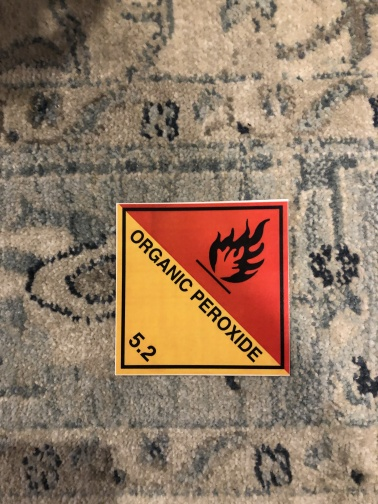OrganicPeroxide: (115, 200, 291, 376)
